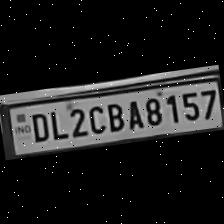1: (161, 90, 181, 124)
2: (64, 102, 88, 138)
5: (176, 87, 200, 122)
7: (197, 84, 220, 118)
8: (140, 92, 164, 126)
A: (121, 95, 143, 129)
B: (102, 98, 126, 132)
C: (84, 100, 106, 134)
D: (26, 108, 50, 143)
L: (46, 106, 68, 140)
